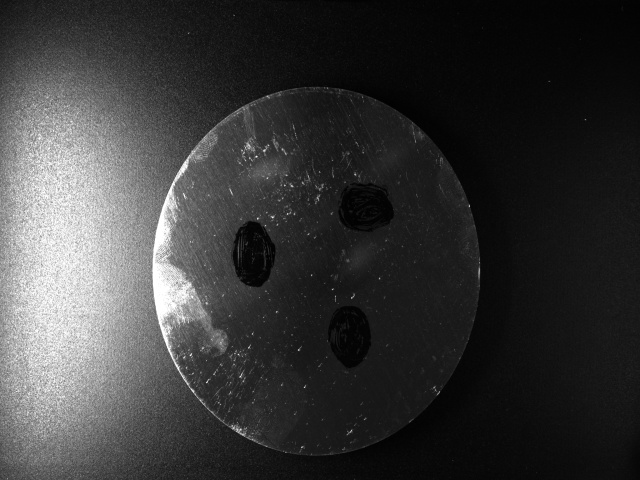zang_wu: (229, 220, 278, 289), (336, 181, 397, 235), (326, 303, 373, 371)
